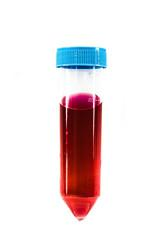Test tube: (27, 23, 124, 225)
